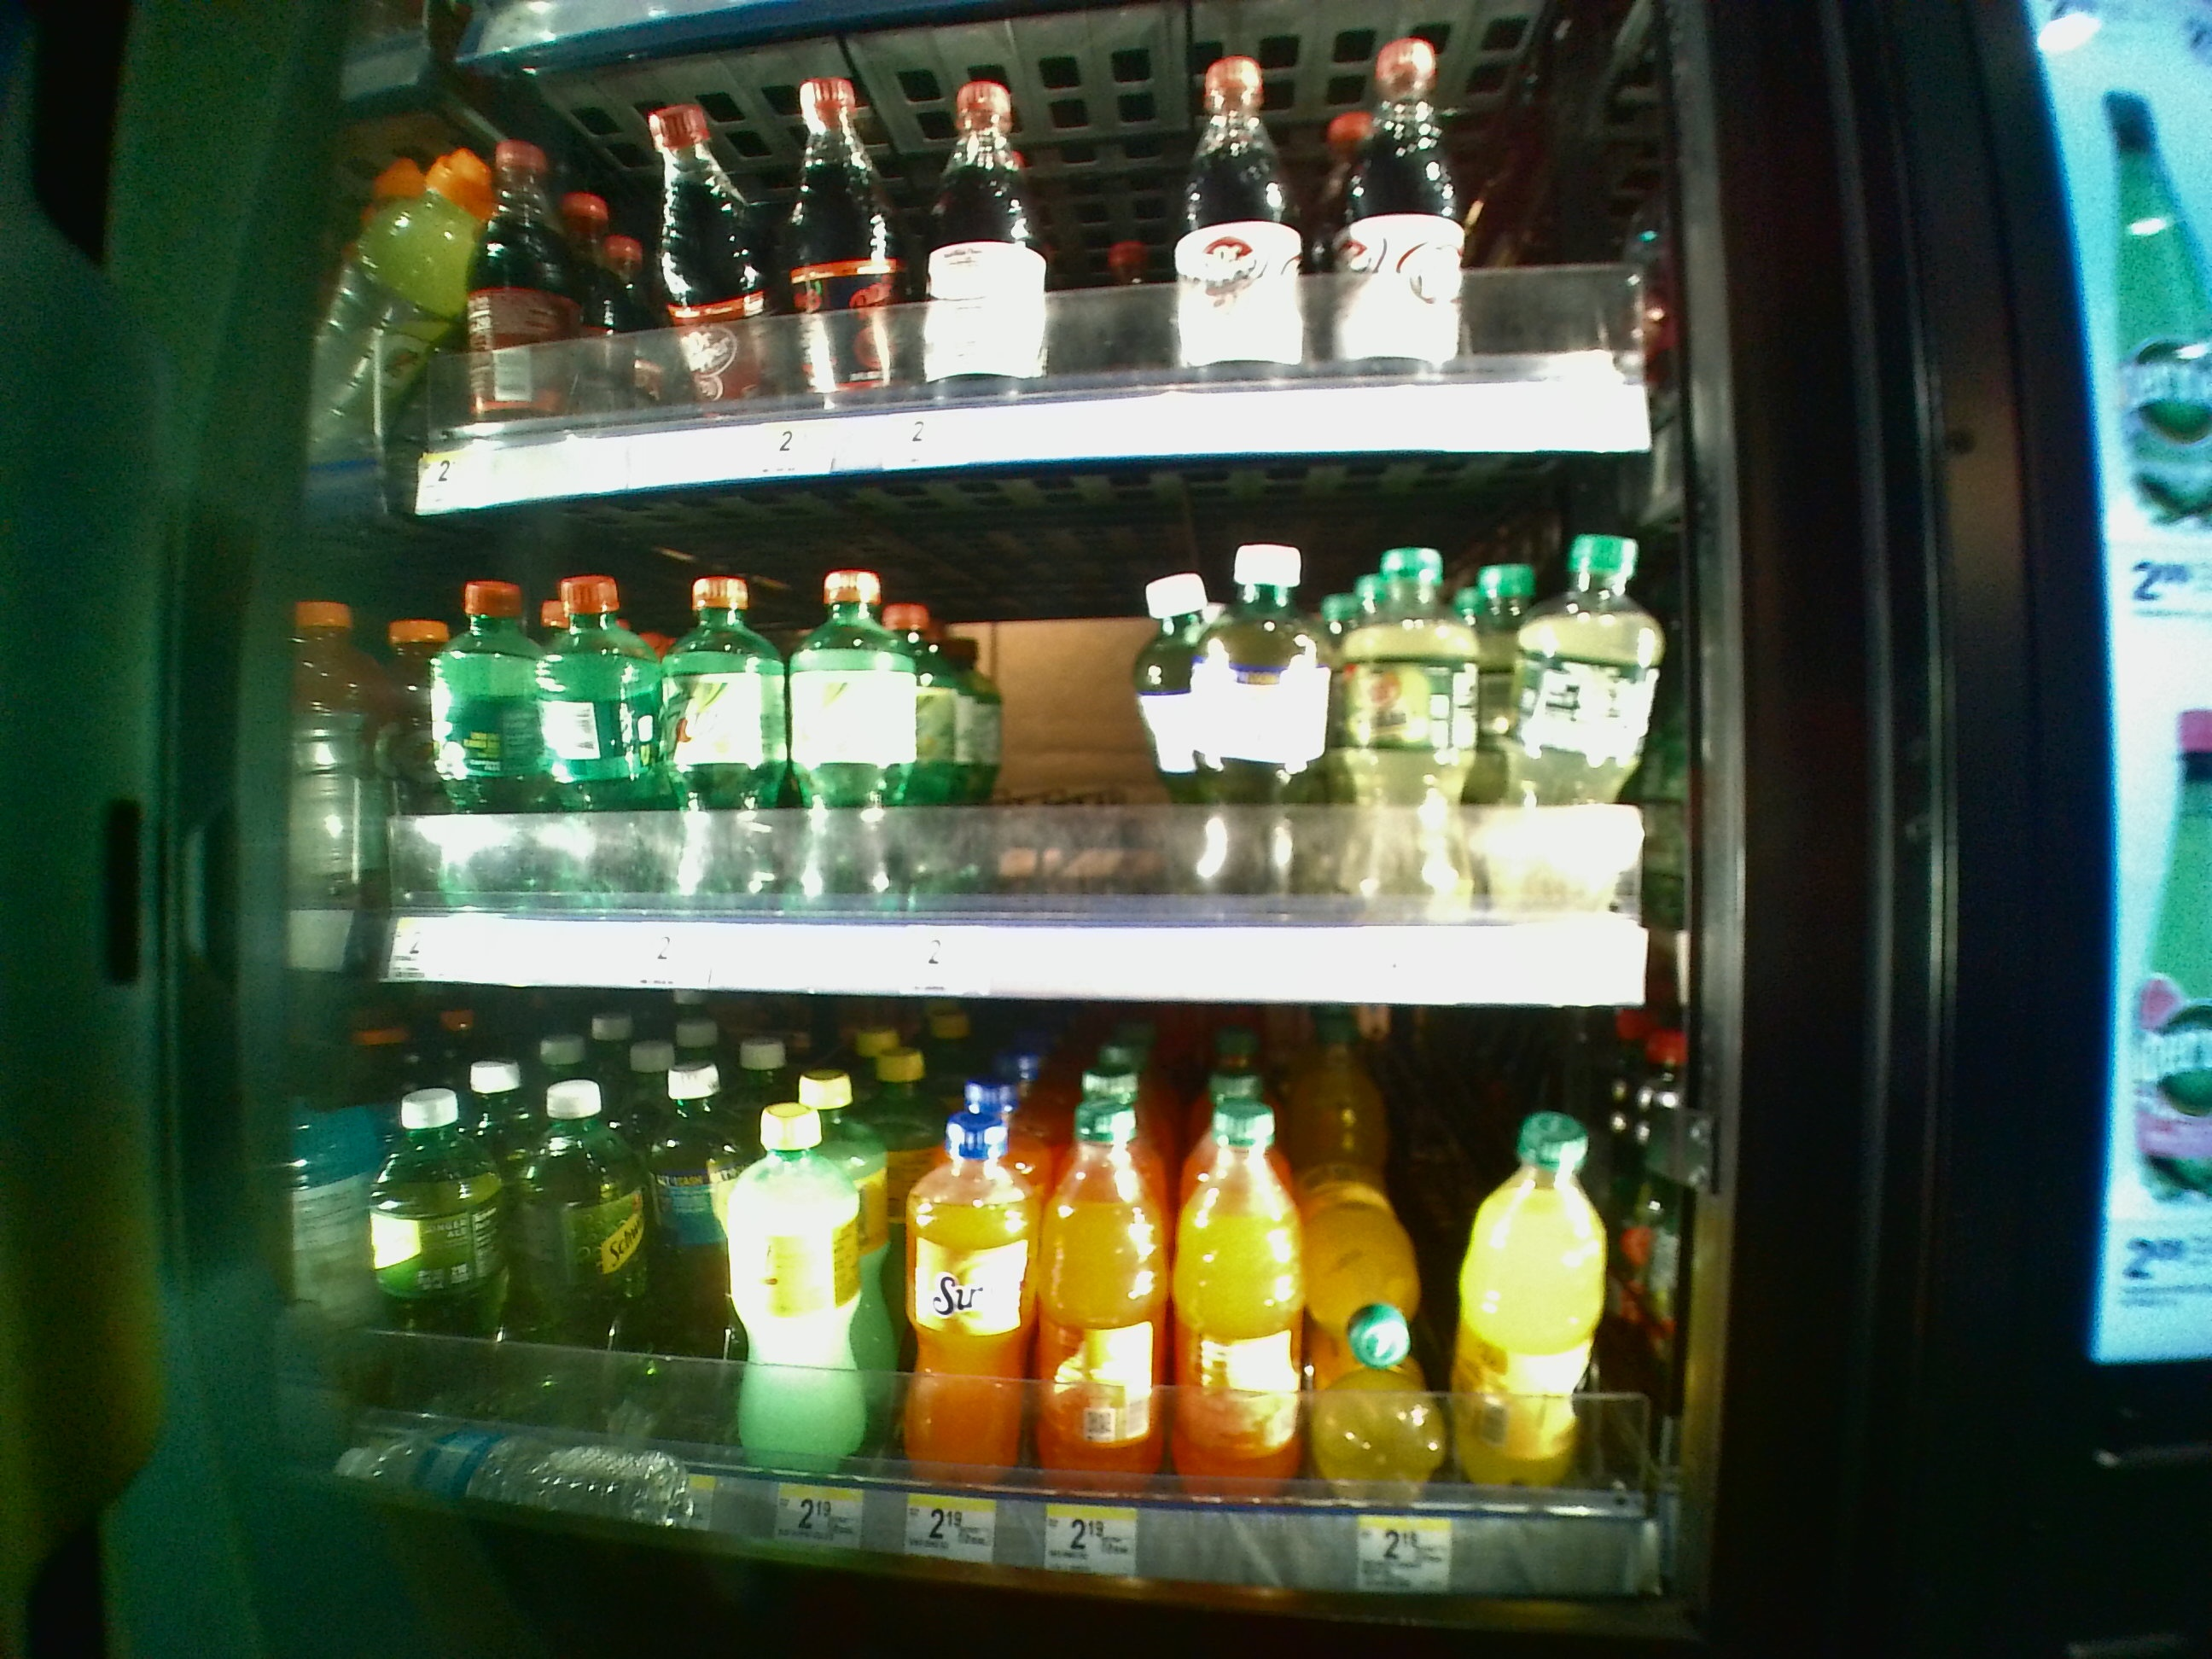shelf: (343, 1000, 1686, 1610), (343, 511, 1672, 1002)
